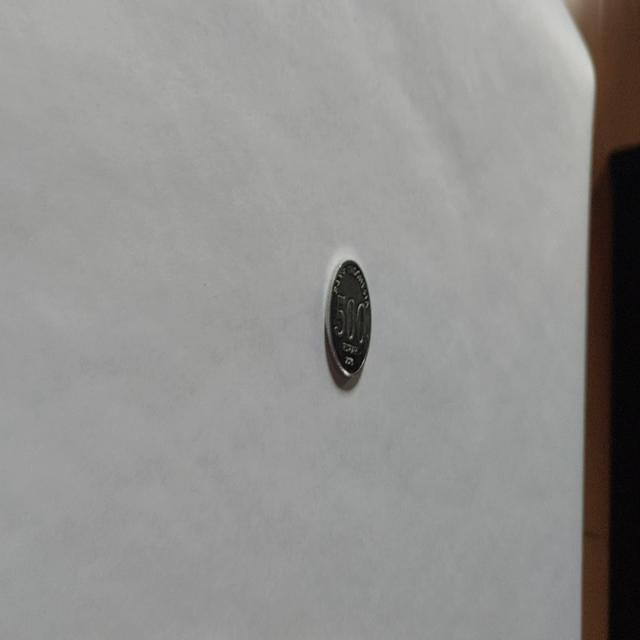lima ratus rupiah: (323, 256, 372, 388)
